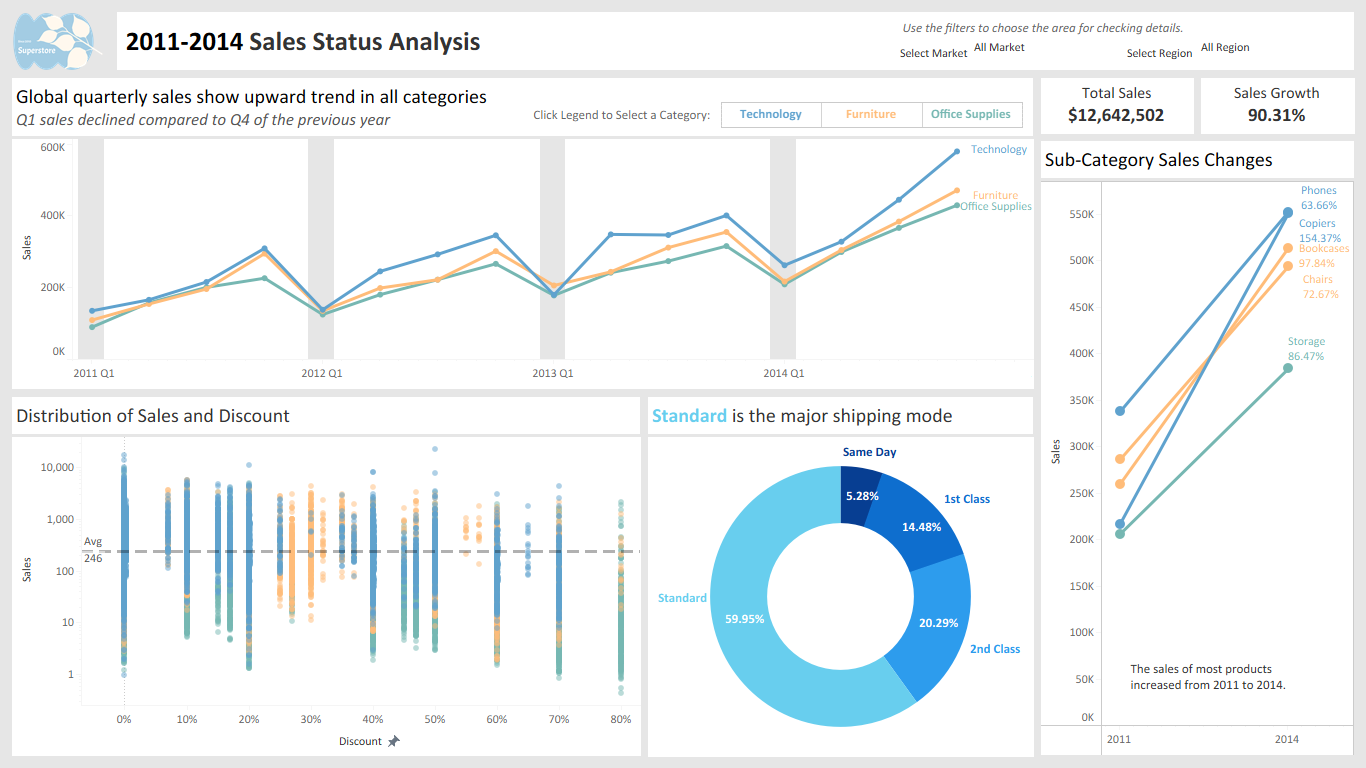

What the dashboard file says about the page in this screenshot:
{"tool":"tableau","page":{"name":"Sales Dashboard","canvas":[1366,768],"ordinal":2},"visuals":[{"type":"image","param":"Image/superstore-high-resolution-logo-transparent.png","box":[8,8,105,66]},{"type":"title","box":[113,8,1245,66]},{"type":"text","box":[900,8,295,40]},{"type":"parameter","param":"[Parameters].[Market Parameter]","box":[896,36,227.5,35]},{"type":"parameter","param":"[Parameters].[Market Region Parameter]","box":[1123.5,36,227.5,35]},{"type":"worksheet","title":"Sales Trend","mark":"Automatic","rows":["Sales"],"cols":["Order Date"],"box":[8,74,1029,319.1]},{"type":"worksheet","title":"Total Sales","mark":"Automatic","box":[1037,74,160.5,63]},{"type":"worksheet","title":"Sales Growth","mark":"Automatic","box":[1197.5,74,160.5,63]},{"type":"text","box":[516,98,201,34]},{"type":"worksheet","title":"Category Button","mark":"Automatic","cols":["Category"],"box":[717,98,310,34]},{"type":"worksheet","title":"Sub Category Dumbbell","mark":"Automatic","rows":["Sales","Sales"],"cols":["Order Date"],"box":[1037,137,321,623]},{"type":"blank","box":[983,362,48,20]},{"type":"worksheet","title":"Discount Sales","mark":"Circle","rows":["Sales"],"cols":["Discount"],"box":[8,393.1,636,366.9]},{"type":"worksheet","title":"Shipping Mode Donut","mark":"Pie","rows":["Calculation_5468777380205772800","Calculation_5468777380205772800"],"box":[644,393.1,393,366.9]},{"type":"text","box":[1128,645,199,64]}]}

Visuals, with their boxes in screenshot pixels (x1, y1, x2, y2), scaled from the page's 1366x768 canvas onto the 1366x768 screenshot:
image: 8,8,113,74
title: 113,8,1358,74
text: 900,8,1195,48
parameter: 896,36,1124,71
parameter: 1124,36,1351,71
"Sales Trend" worksheet: 8,74,1037,393
"Total Sales" worksheet: 1037,74,1198,137
"Sales Growth" worksheet: 1198,74,1358,137
text: 516,98,717,132
"Category Button" worksheet: 717,98,1027,132
"Sub Category Dumbbell" worksheet: 1037,137,1358,760
blank: 983,362,1031,382
"Discount Sales" worksheet (Circle marks): 8,393,644,760
"Shipping Mode Donut" worksheet (Pie marks): 644,393,1037,760
text: 1128,645,1327,709
